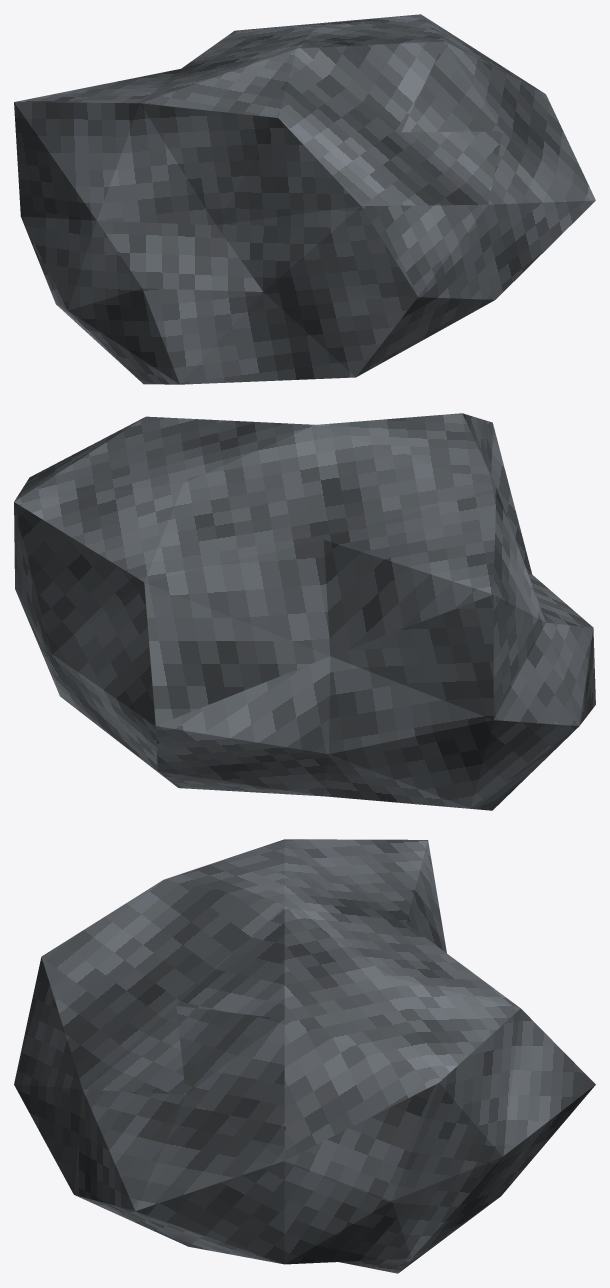
Rendered from Astreroid_1.fbx.
3 views of the same model, one above another, from view 1: azimuth 30°, elevation 25°; view 2: azimuth 150°, elevation 25°; view 3: azimuth 270°, elevation 25° (orthographic). The views are drawn at different scales.
Parts seen in each view (by area): view 1: Asteroid_LowPoly; view 2: Asteroid_LowPoly; view 3: Asteroid_LowPoly.
Part boxes in pixels (x1,y1,x2,y2): Asteroid_LowPoly: (14,14,595,384); Asteroid_LowPoly: (14,413,595,810); Asteroid_LowPoly: (14,839,595,1273).
Size of the model in its own units: 487 by 290 by 459.
